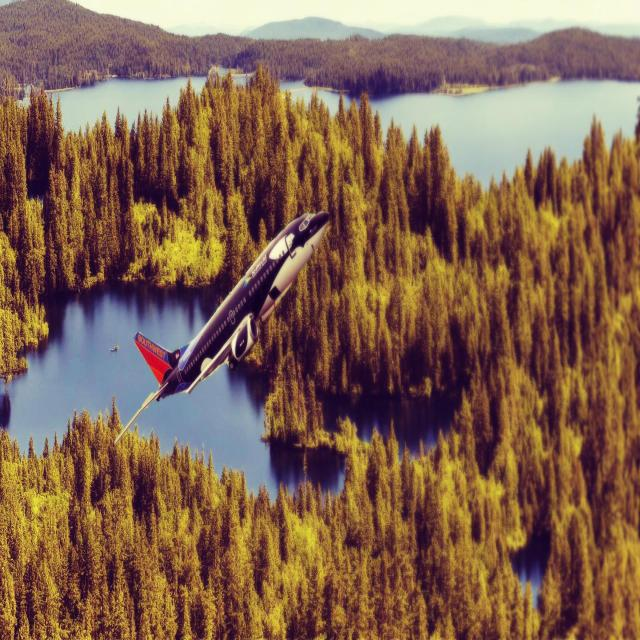airplane: (113, 208, 330, 446)
